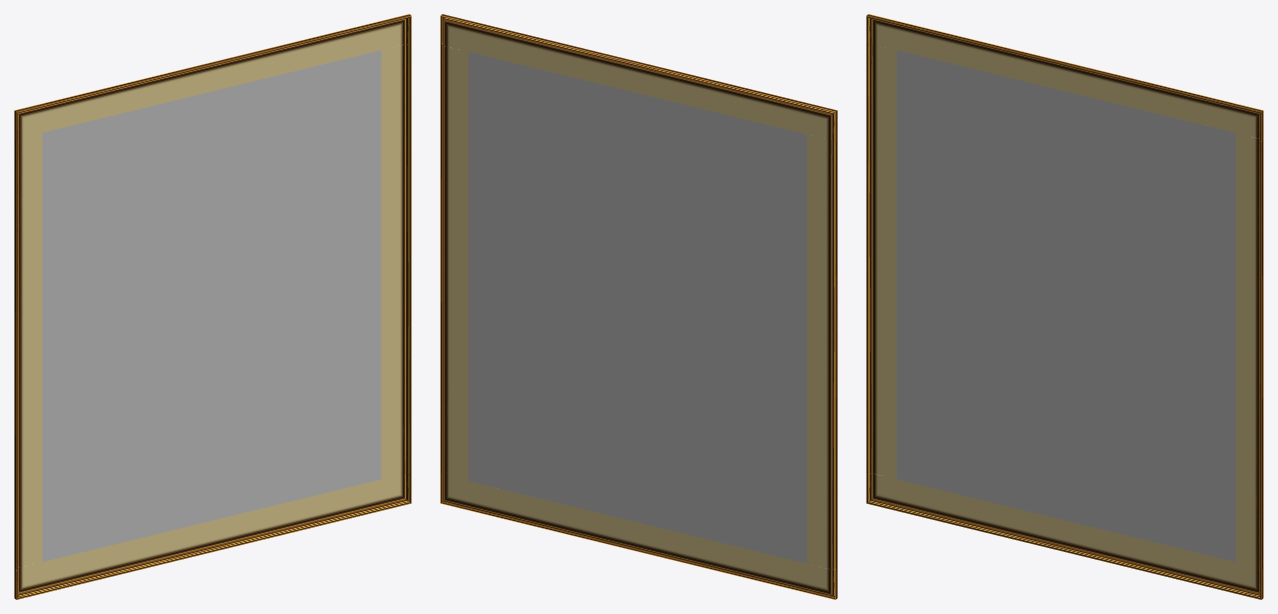
The model's file is Canvas_fix_004.fbx.
3 renders of one model, left to right at view 1: azimuth 30°, elevation 25°; view 2: azimuth 150°, elevation 25°; view 3: azimuth 330°, elevation 25°, orthographic.
Parts seen in each view (by area): view 1: Canvas_fix_004; view 2: Canvas_fix_004; view 3: Canvas_fix_004.
Part boxes in pixels (x1,y1,x2,y2): Canvas_fix_004: (14,14,411,599); Canvas_fix_004: (440,14,837,599); Canvas_fix_004: (866,14,1263,599).
Size of the model in its own units: 155 by 183 by 1.59.
